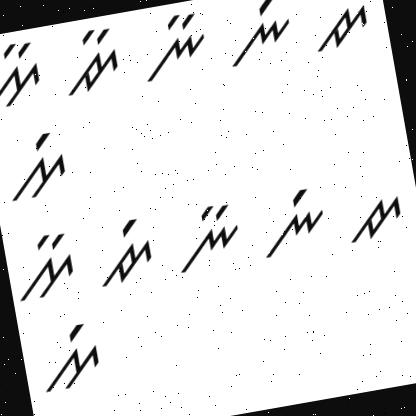ja: (341, 188, 410, 252), (310, 0, 375, 58)
jan: (54, 23, 127, 101)
jang: (83, 209, 157, 292)
nyan: (167, 197, 247, 277), (133, 8, 212, 82)
nyang: (251, 180, 332, 260), (216, 0, 300, 69)
san: (7, 225, 81, 306), (0, 33, 51, 113)
sang: (0, 122, 76, 204), (33, 316, 108, 396)
